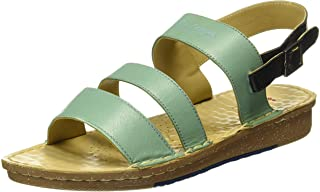shoes: (1, 1, 320, 190)
